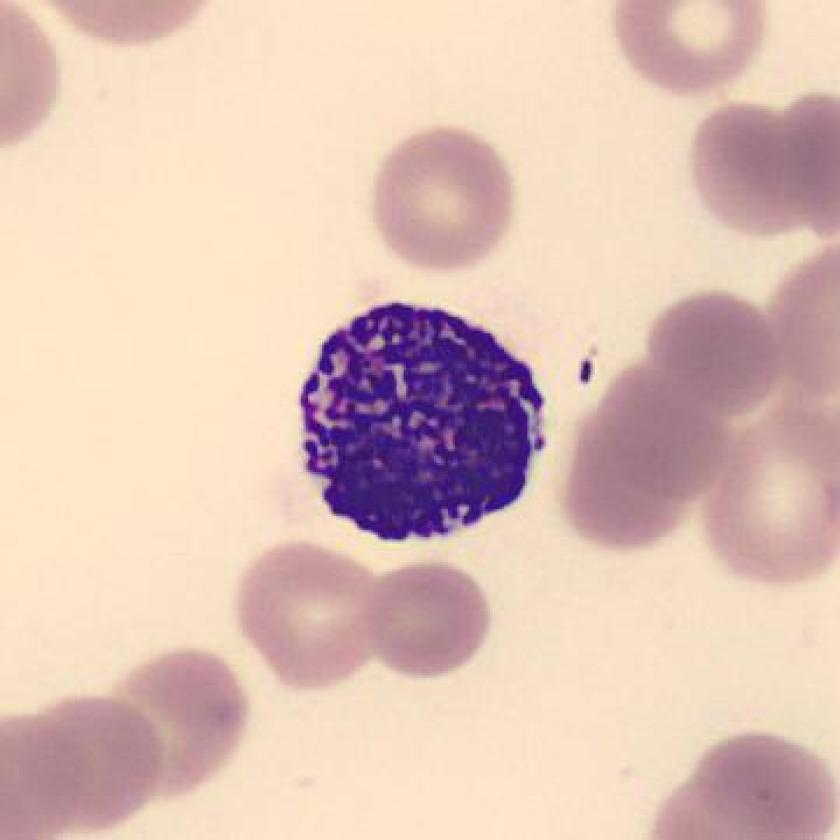basophil: (297, 295, 559, 561)
